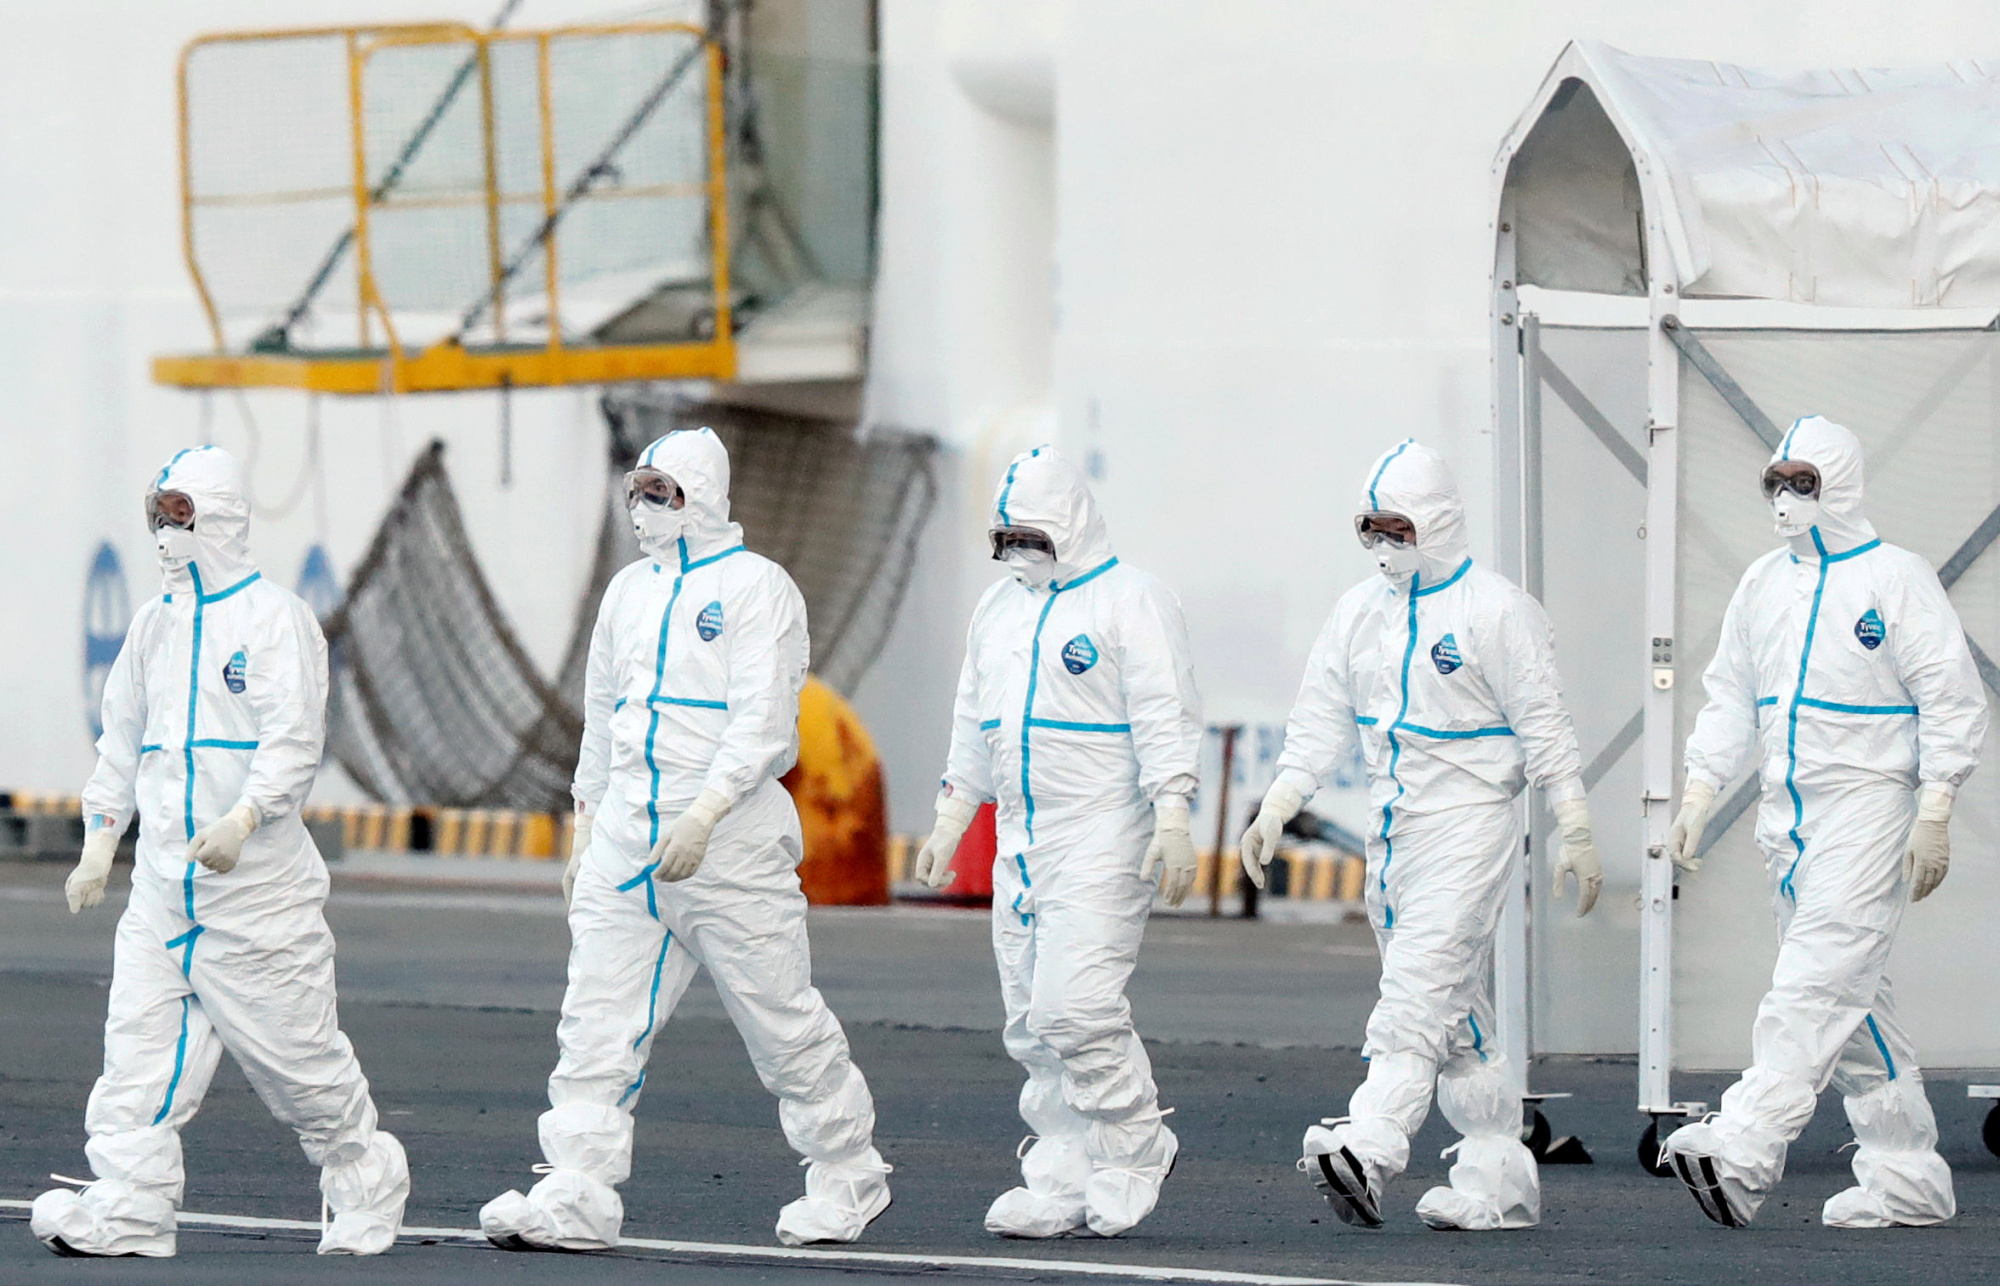Coverall: (45, 434, 405, 1206), (537, 426, 882, 1198), (1260, 435, 1578, 1173), (1687, 418, 1974, 1181), (932, 445, 1208, 1200)
Gloves: (1539, 804, 1615, 921), (641, 793, 724, 887), (1135, 797, 1204, 908), (1232, 790, 1298, 895), (58, 817, 119, 921), (1900, 798, 1956, 906), (1659, 778, 1720, 878), (182, 804, 252, 874), (908, 813, 967, 895)
Goggles: (989, 521, 1065, 571), (1350, 508, 1424, 558), (619, 461, 689, 515), (139, 482, 206, 537), (1765, 463, 1832, 502)
with_mask: (624, 484, 697, 554), (148, 516, 208, 581), (1770, 486, 1822, 545), (1367, 541, 1420, 591)
